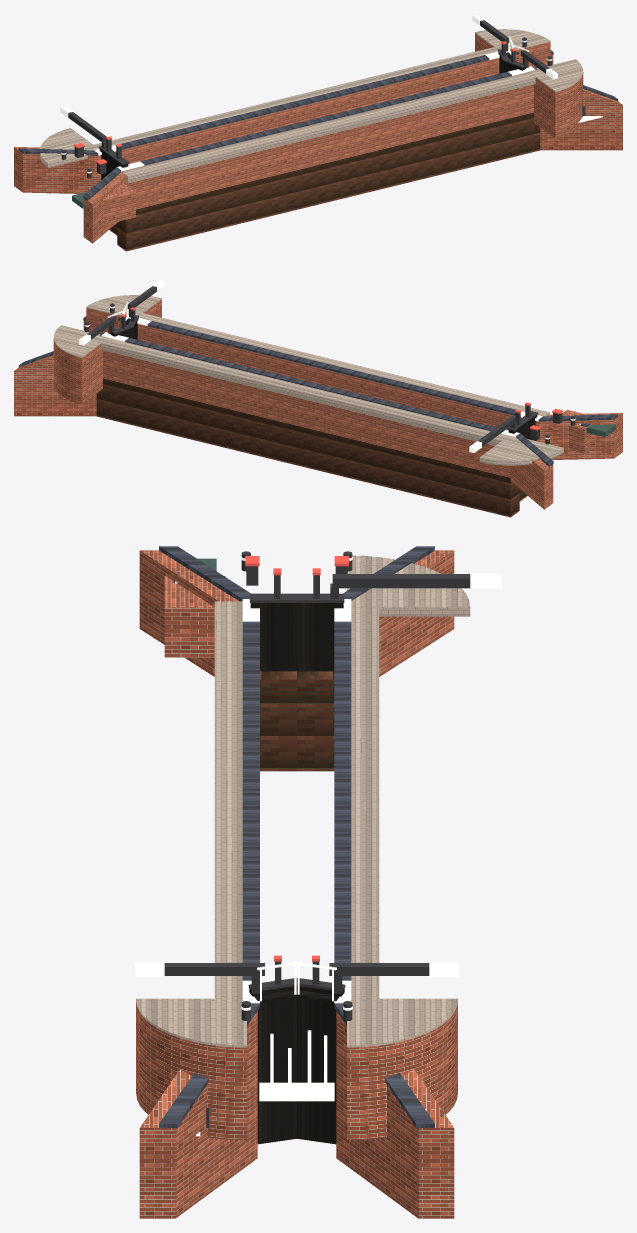
Rendered from lock-45.glb.
3 renders of one model, top to bottom at view 1: azimuth 30°, elevation 25°; view 2: azimuth 150°, elevation 25°; view 3: azimuth 270°, elevation 25°, orthographic. The views are drawn at different scales.
Visible parts, largest first — view 1: Chamber, ChamberWet, Edge, Coping.001, TopGateCap, Coping, TopGate; view 2: Chamber, ChamberWet, Edge, Coping.001, TopGateCap, Coping, TopGate; view 3: Chamber, Edge, Coping.001, TopGate, TopGateCap, ChamberWet, Coping, Leak.
Part boxes in pixels (<box>): Chamber: <box>14,33,622,243</box>; ChamberWet: <box>109,112,540,251</box>; Edge: <box>40,29,582,183</box>; Coping.001: <box>18,50,618,200</box>; TopGateCap: <box>61,20,585,178</box>; Coping: <box>60,14,557,173</box>; TopGate: <box>99,52,528,179</box>; Chamber: <box>14,299,622,509</box>; ChamberWet: <box>96,378,527,517</box>; Edge: <box>54,295,563,465</box>; Coping.001: <box>18,316,618,466</box>; TopGateCap: <box>84,286,575,446</box>; Coping: <box>79,280,575,452</box>; TopGate: <box>108,318,537,440</box>; Chamber: <box>136,550,457,1218</box>; Edge: <box>136,555,470,1047</box>; Coping.001: <box>159,546,434,1127</box>; TopGate: <box>249,603,344,1144</box>; TopGateCap: <box>164,551,470,1127</box>; ChamberWet: <box>260,671,334,771</box>; Coping: <box>135,556,501,1010</box>; Leak: <box>175,581,334,1136</box>.
Bounding box in the file's own units: 34.35 × 5.86 × 10.24.
11 materials, 8 textured.
